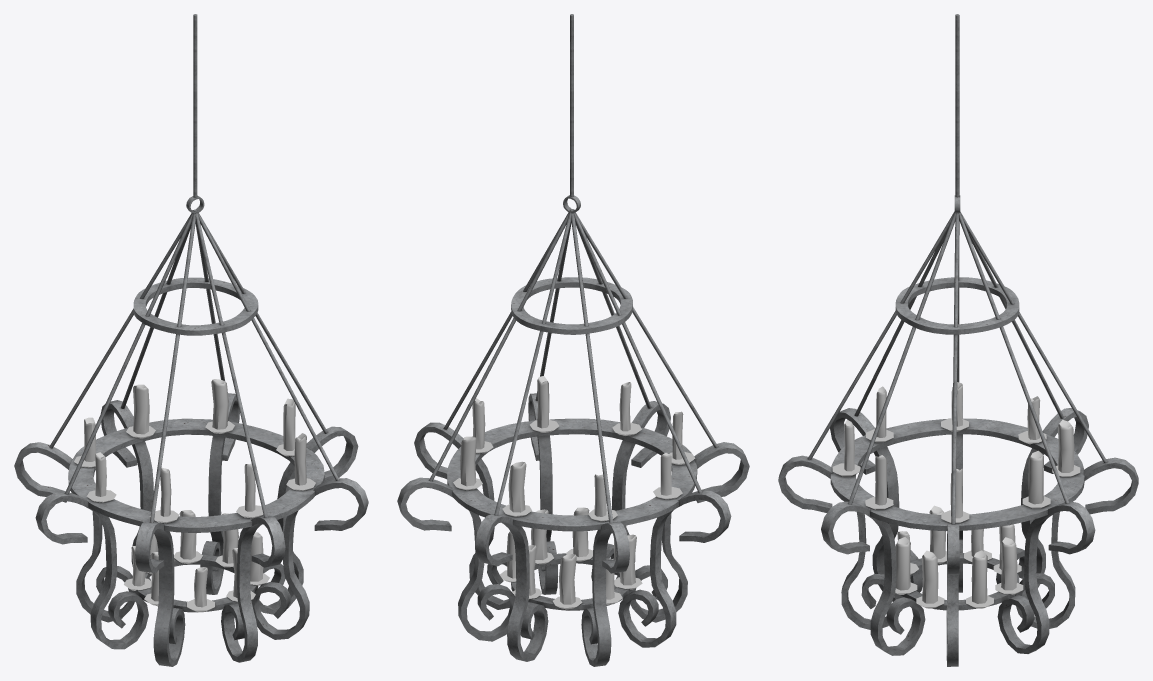
Rendered from SM_ChandelierMetallic.fbx.
3 renders of one model, left to right at view 1: azimuth 30°, elevation 25°; view 2: azimuth 150°, elevation 25°; view 3: azimuth 270°, elevation 25°, orthographic.
Visible parts, largest first — view 1: SM_ChandelierMetallic_LOD0; view 2: SM_ChandelierMetallic_LOD0; view 3: SM_ChandelierMetallic_LOD0.
Part boxes in pixels (left/top/right/bottom): SM_ChandelierMetallic_LOD0: left=14, top=14, right=368, bottom=666; SM_ChandelierMetallic_LOD0: left=397, top=14, right=749, bottom=666; SM_ChandelierMetallic_LOD0: left=778, top=14, right=1138, bottom=666.
Bounding box in the file's own units: 127 × 126 × 237.
